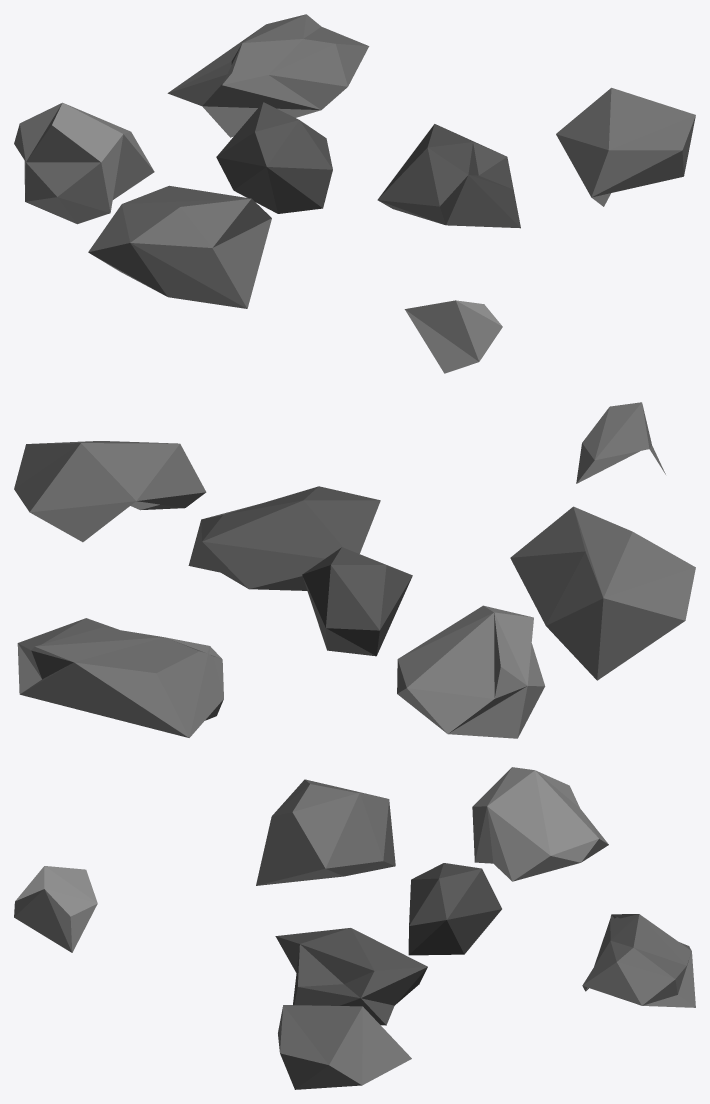
The model's file is stoun_props3.fbx.
3 views of the same model, one above another, from view 1: azimuth 30°, elevation 25°; view 2: azimuth 150°, elevation 25°; view 3: azimuth 270°, elevation 25° (orthographic). The views are drawn at different scales.
Visible parts, largest first — view 1: Object.018; view 2: Object.018; view 3: Object.018.
Part boxes in pixels (left/top/right/bottom): Object.018: left=14, top=14, right=695, bottom=373; Object.018: left=14, top=402, right=695, bottom=738; Object.018: left=14, top=767, right=695, bottom=1089.
Size of the model in its own units: 85.39 by 15.75 by 90.45.
